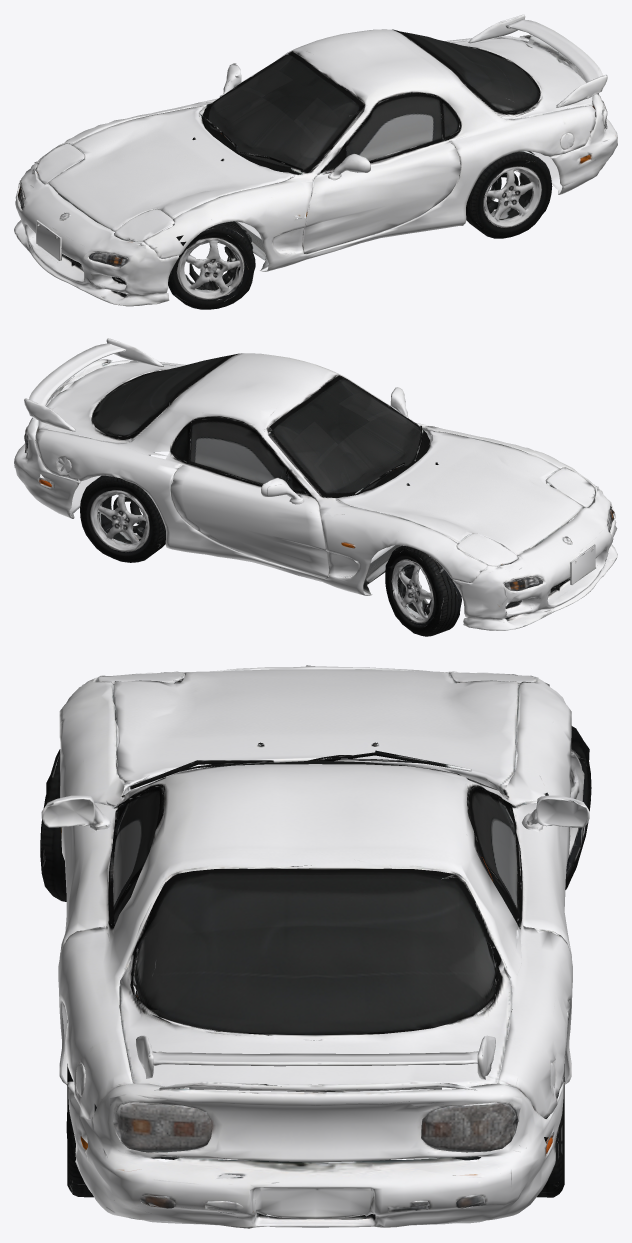
3 views of the same model, one above another, from view 1: azimuth 30°, elevation 25°; view 2: azimuth 150°, elevation 25°; view 3: azimuth 270°, elevation 25° (orthographic). The views are drawn at different scales.
Size of the model in its own units: 0.9517 by 0.2676 by 0.4229.
1 material, 1 textured.
